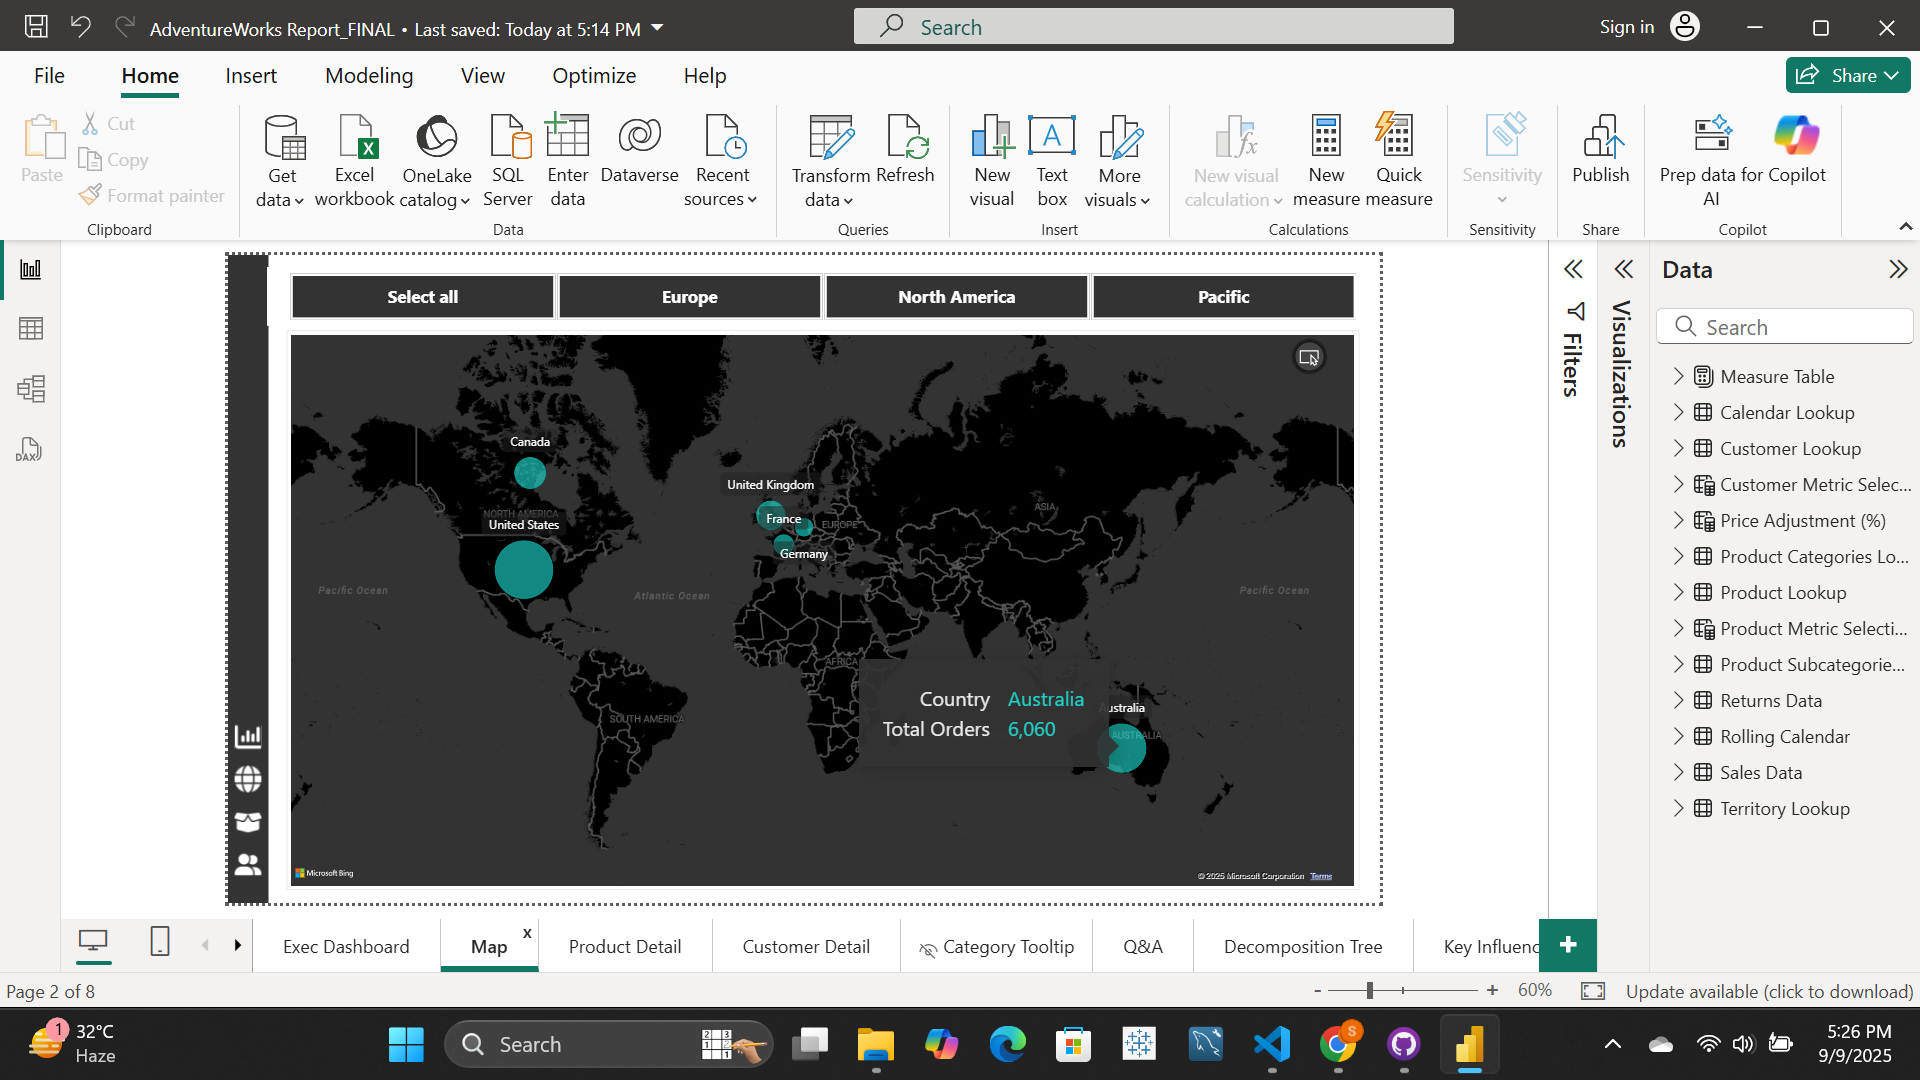

What the dashboard file says about the page in this screenshot:
{"tool":"powerbi","page":{"name":"Map","canvas":[1280,720],"ordinal":1},"visuals":[{"type":"shape","box":[0,0,45,720],"z":0},{"type":"actionButton","box":[2.5,516.7,45.6,37.8],"z":0,"group":"g1"},{"type":"actionButton","box":[3.3,563.4,45.6,37.8],"z":1000,"group":"g1"},{"type":"map","fields":{"Category":["Territory Lookup.Country"],"Size":["Measure Table.Total Orders"]},"box":[65.6,82.5,1191.3,622.8],"z":1000},{"type":"slicer","fields":{"Values":["Territory Lookup.Continent"]},"box":[43,13.6,1234.3,65.6],"z":2000},{"type":"actionButton","box":[3.3,611.1,45.6,37.8],"z":2000,"group":"g1"},{"type":"actionButton","box":[3.3,657.8,45.6,37.8],"z":3000,"group":"g1"},{"type":"group","id":"g1","title":"Navigation Buttons","box":[2.5,516.7,46.4,178.9],"z":3000}]}

Visuals, with their boxes on the page's 1280x720 design canvas (x1, y1, x2, y2). These are canvas units, not pixel positions in the 1920x1080 screenshot, which may show the page scaled, cropped or inside an application window:
shape: 0, 0, 45, 720
actionButton: 2, 517, 48, 554
actionButton: 3, 563, 49, 601
map - Territory Lookup.Country x Measure Table.Total Orders: 66, 82, 1257, 705
slicer - Territory Lookup.Continent: 43, 14, 1277, 79
actionButton: 3, 611, 49, 649
actionButton: 3, 658, 49, 696
"Navigation Buttons" group: 2, 517, 49, 696
